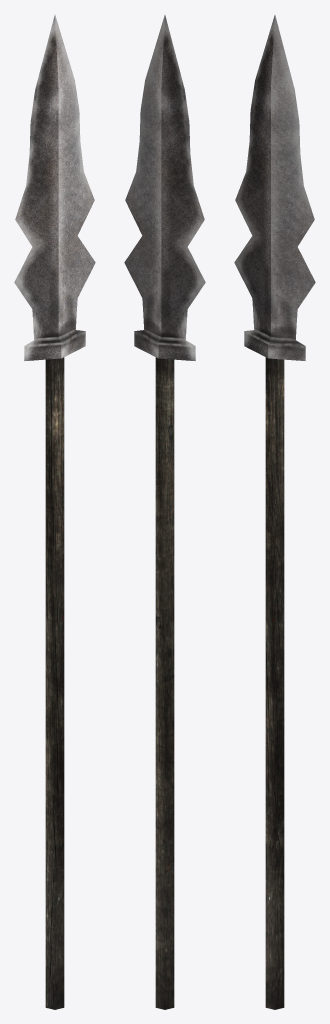
File: spear.FBX
The picture shows the model from 3 angles, left to right: view 1: azimuth 30°, elevation 25°; view 2: azimuth 150°, elevation 25°; view 3: azimuth 330°, elevation 25°; orthographic projection.
Parts seen in each view (by area): view 1: polySurface1; view 2: polySurface1; view 3: polySurface1.
Boxes of the visible parts, box(x1,y1,x2,y2) form: polySurface1: box(14, 15, 95, 1009); polySurface1: box(124, 15, 205, 1009); polySurface1: box(234, 15, 315, 1009).
Bounding box in the file's own units: 18.6 × 216 × 5.23.
